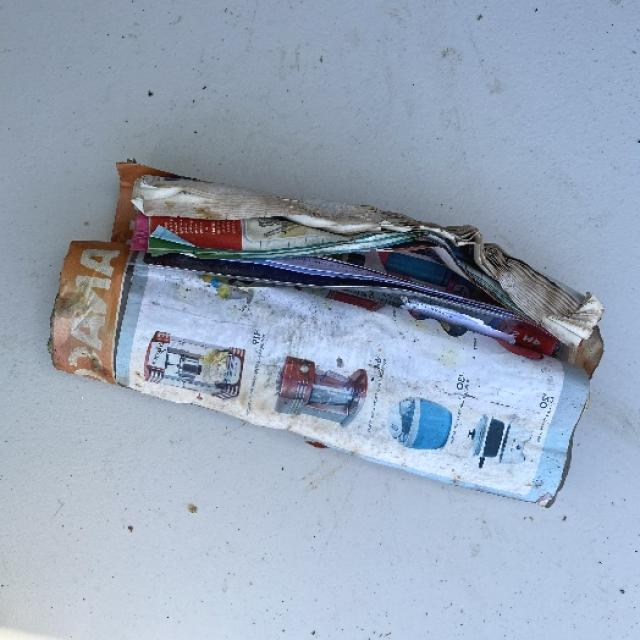inorganic: (41, 157, 600, 512)
